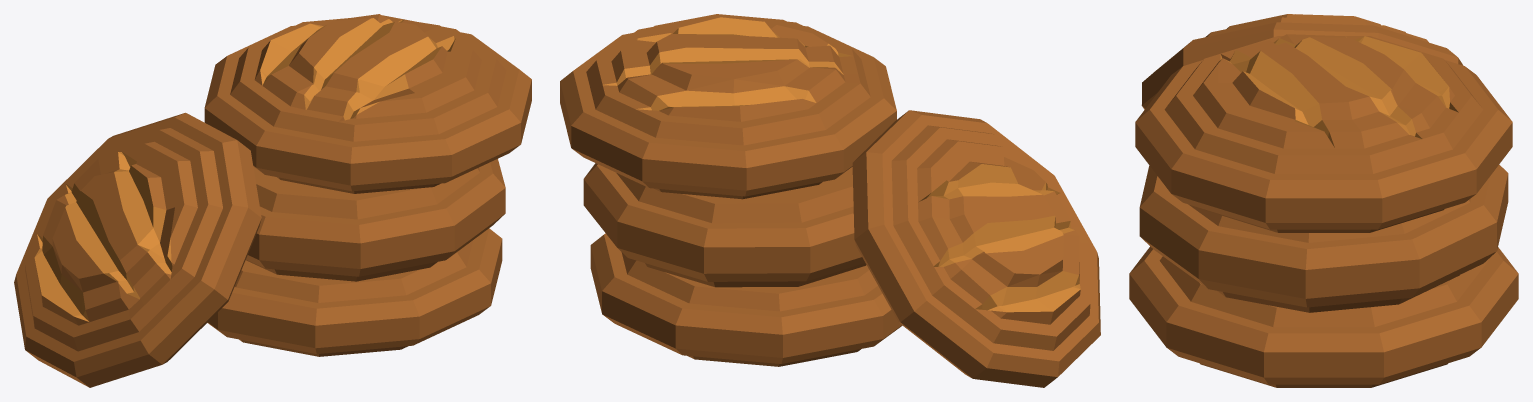
The model's file is bread_stack.fbx.
The picture shows the model from 3 angles, left to right: view 1: azimuth 30°, elevation 25°; view 2: azimuth 150°, elevation 25°; view 3: azimuth 270°, elevation 25°; orthographic projection. The views are drawn at different scales.
Visible parts, largest first — view 1: Circle.004; view 2: Circle.004; view 3: Circle.004.
Part boxes in pixels (x1,y1,x2,y2): Circle.004: (14, 14, 531, 387); Circle.004: (560, 14, 1100, 387); Circle.004: (1129, 14, 1518, 387).
Bounding box in the file's own units: 66.99 × 33.41 × 42.64.
